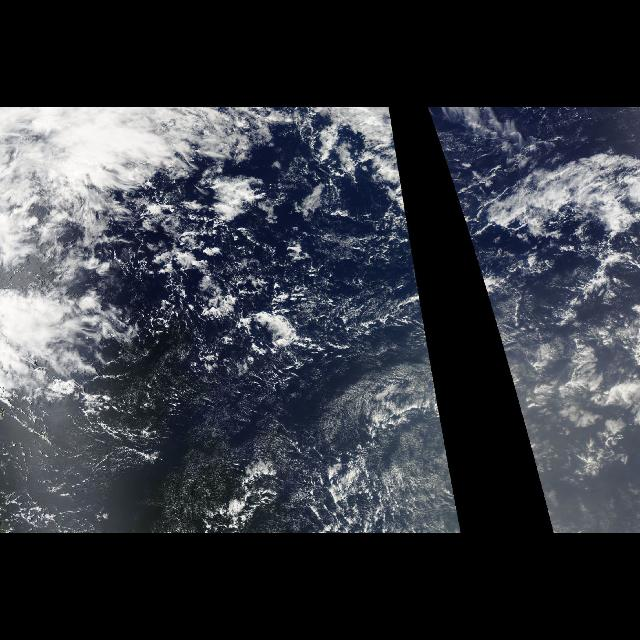Gravel: (130, 204, 332, 386)
Sugar: (258, 352, 454, 493), (132, 395, 240, 533)
